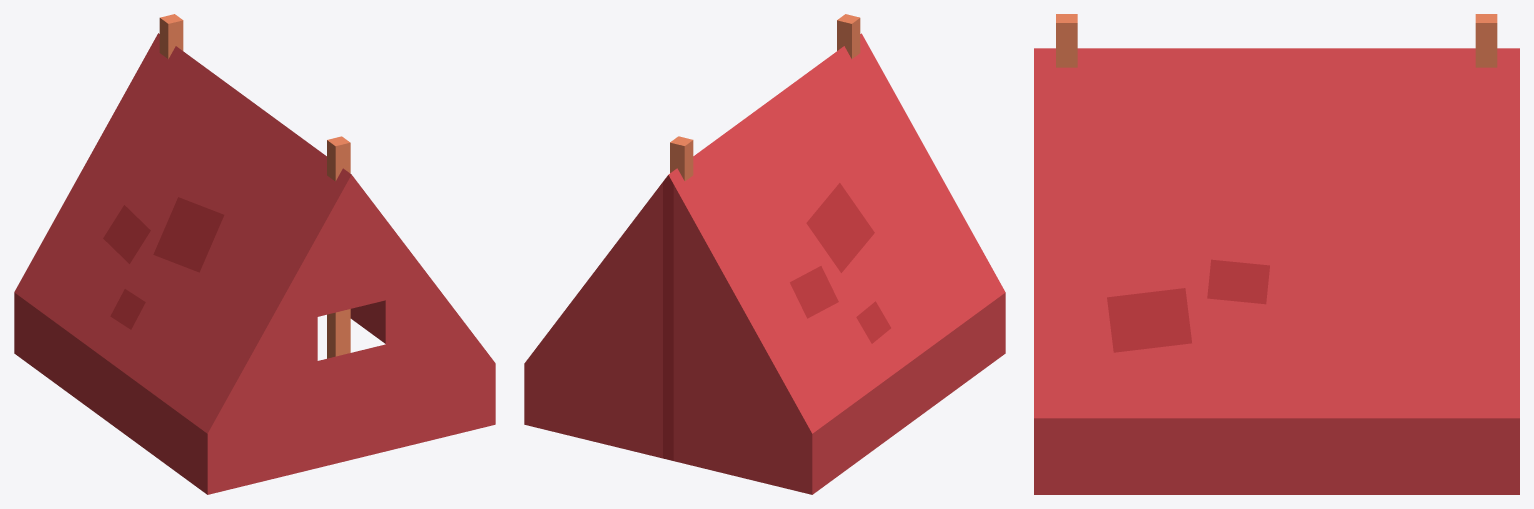
Rendered from tent-small-closed.glb.
3 renders of one model, left to right at view 1: azimuth 30°, elevation 25°; view 2: azimuth 150°, elevation 25°; view 3: azimuth 270°, elevation 25°, orthographic. The views are drawn at different scales.
Parts seen in each view (by area): view 1: tent_smallClosed; view 2: tent_smallClosed; view 3: tent_smallClosed.
Part boxes in pixels (<box>): tent_smallClosed: <box>14,14,495,494</box>; tent_smallClosed: <box>524,14,1005,494</box>; tent_smallClosed: <box>1034,14,1519,494</box>.
Bounding box in the file's own units: 0.5476 × 0.5611 × 0.6364.
